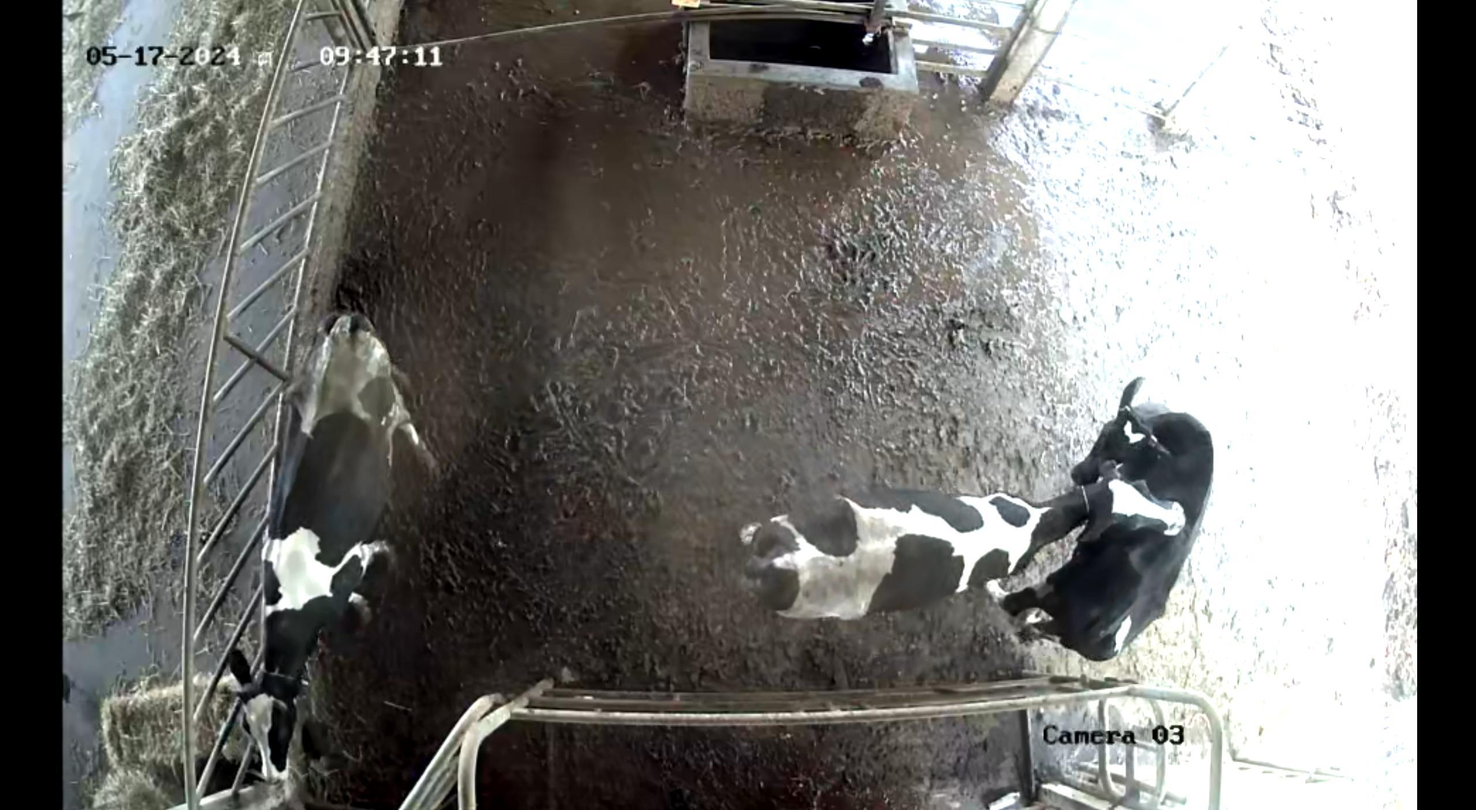propping: (1044, 458, 1202, 562)
stand: (233, 294, 425, 799), (991, 352, 1225, 670)
